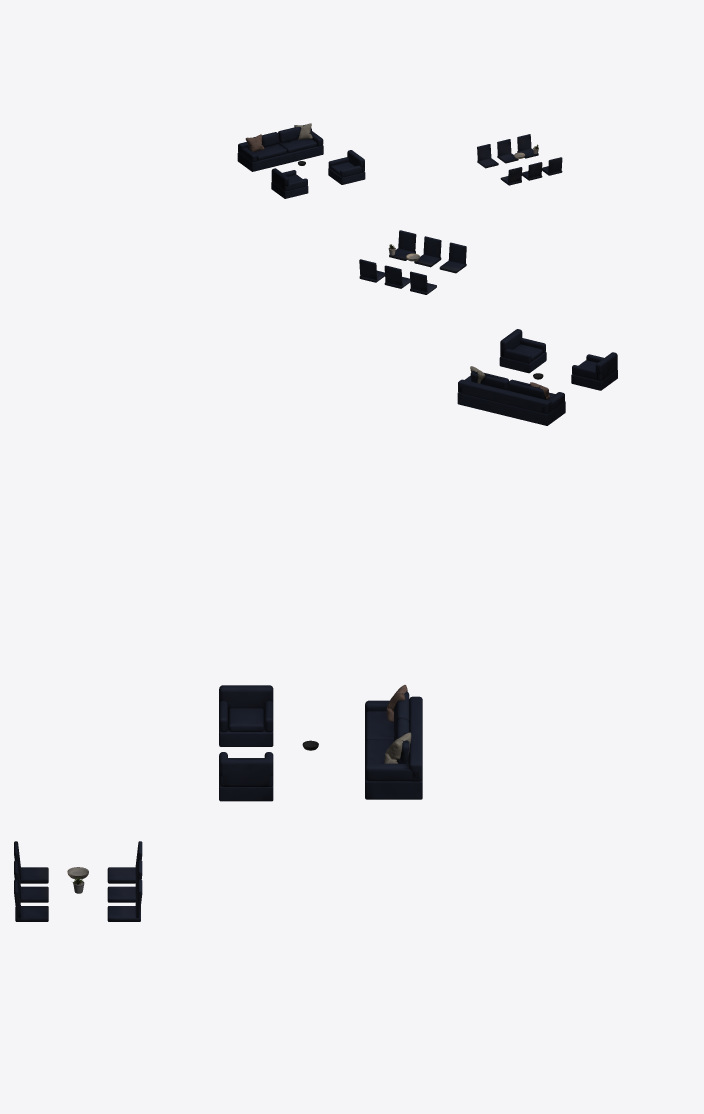
Rendered from decor-garden.glb.
The picture shows the model from 3 angles, top to bottom: view 1: azimuth 30°, elevation 25°; view 2: azimuth 150°, elevation 25°; view 3: azimuth 270°, elevation 25°; orthographic projection. The views are drawn at different scales.
Parts seen in each view (by area): view 1: V|decor|ldk|wooden_bowl_01:a.077; view 2: V|decor|ldk|wooden_bowl_01:a.077; view 3: V|decor|ldk|wooden_bowl_01:a.077.
Boxes of the visible parts, box(x1,y1,x2,y2) form: V|decor|ldk|wooden_bowl_01:a.077: box(237, 124, 562, 198); V|decor|ldk|wooden_bowl_01:a.077: box(359, 230, 617, 425); V|decor|ldk|wooden_bowl_01:a.077: box(14, 685, 422, 921).
Bounding box in the file's own units: 18.1 × 1.14 × 9.96.
8 materials, 3 textured.
